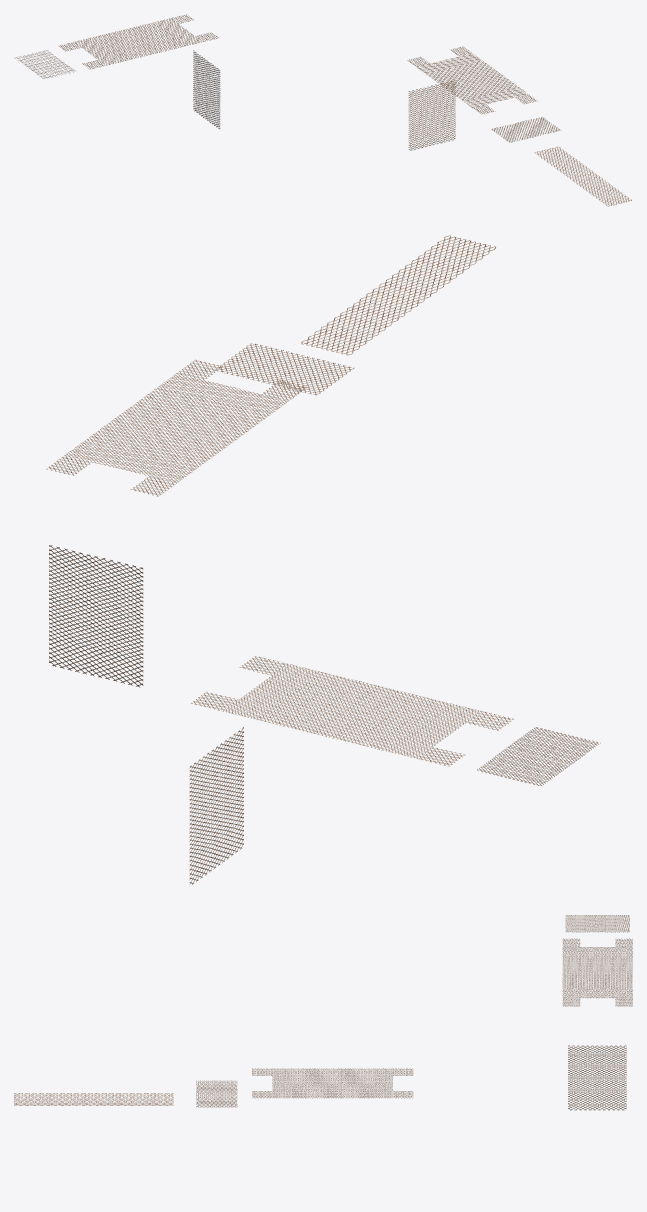
File: STG08_PNW_03.obj
The picture shows the model from 3 angles, top to bottom: view 1: azimuth 30°, elevation 25°; view 2: azimuth 150°, elevation 25°; view 3: azimuth 270°, elevation 25°; orthographic projection. The views are drawn at different scales.
Visible parts, largest first — view 1: Object_2; view 2: Object_2; view 3: Object_2.
Part boxes in pixels (x1,y1,x2,y2): Object_2: (14, 14, 631, 206); Object_2: (46, 235, 600, 884); Object_2: (14, 915, 632, 1110).
Bounding box in the file's own units: 740 × 192 × 1056.
1 material, 1 textured.
